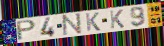4: (39, 16, 56, 38)
9: (129, 6, 147, 28)
K: (108, 9, 126, 29), (84, 12, 102, 32)
N: (62, 12, 83, 37)
P: (16, 19, 38, 42)
